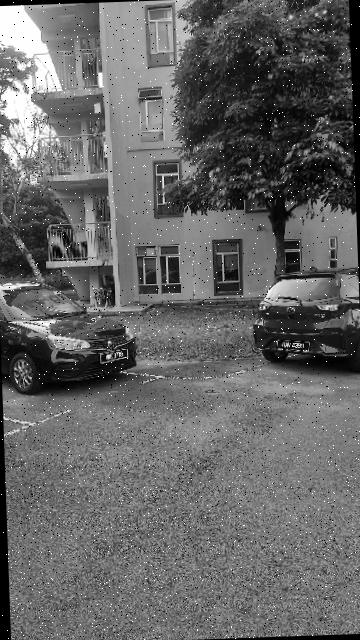License_Plate: (101, 350, 132, 362)
car: (1, 271, 147, 400), (245, 262, 360, 374)
